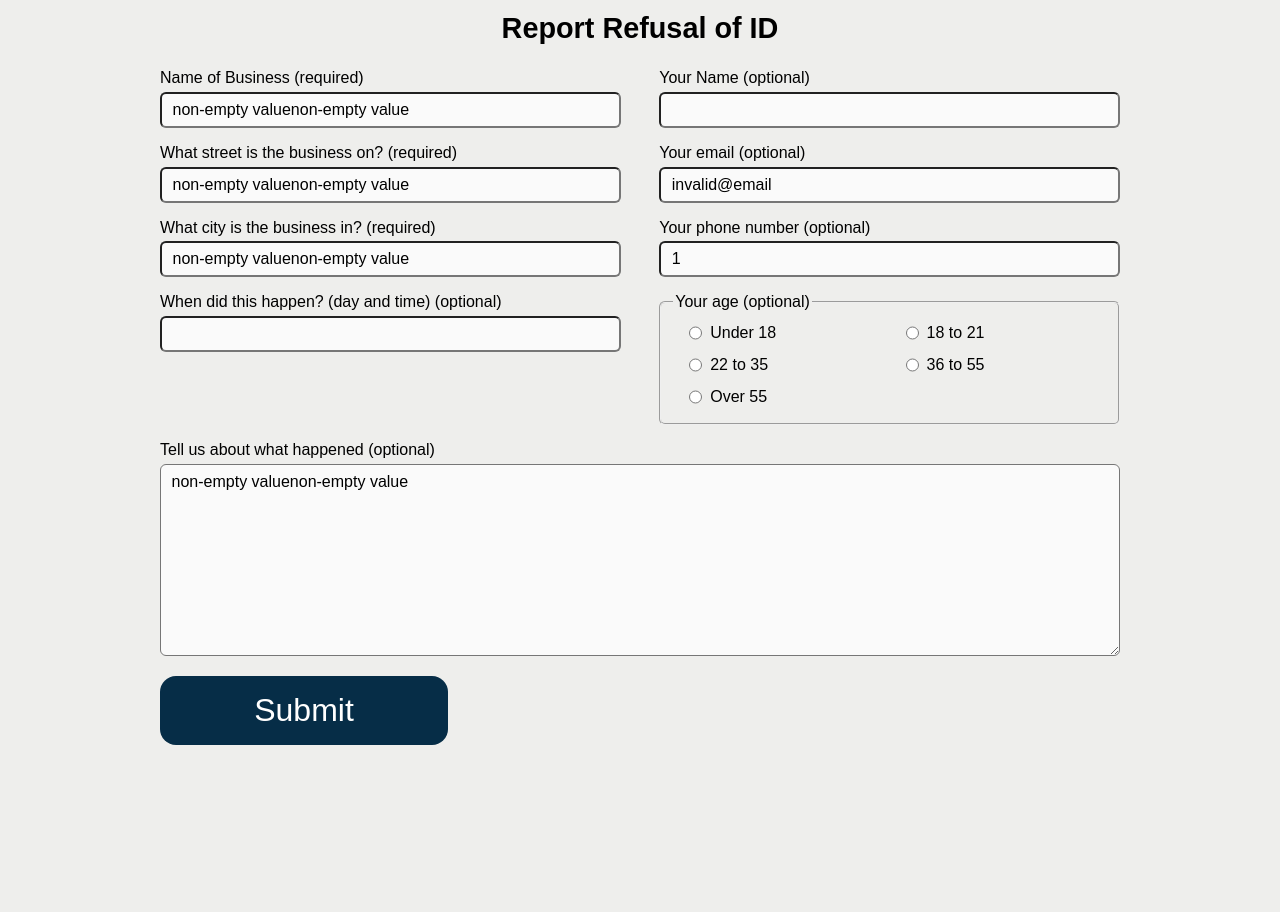
Test: when the form data is invalid › shows error message when missing required business name
Type "non-empty value" into the field labelled "Name of Business (required)". click: {"x": 390, "y": 110}
box: [160, 92, 621, 128]
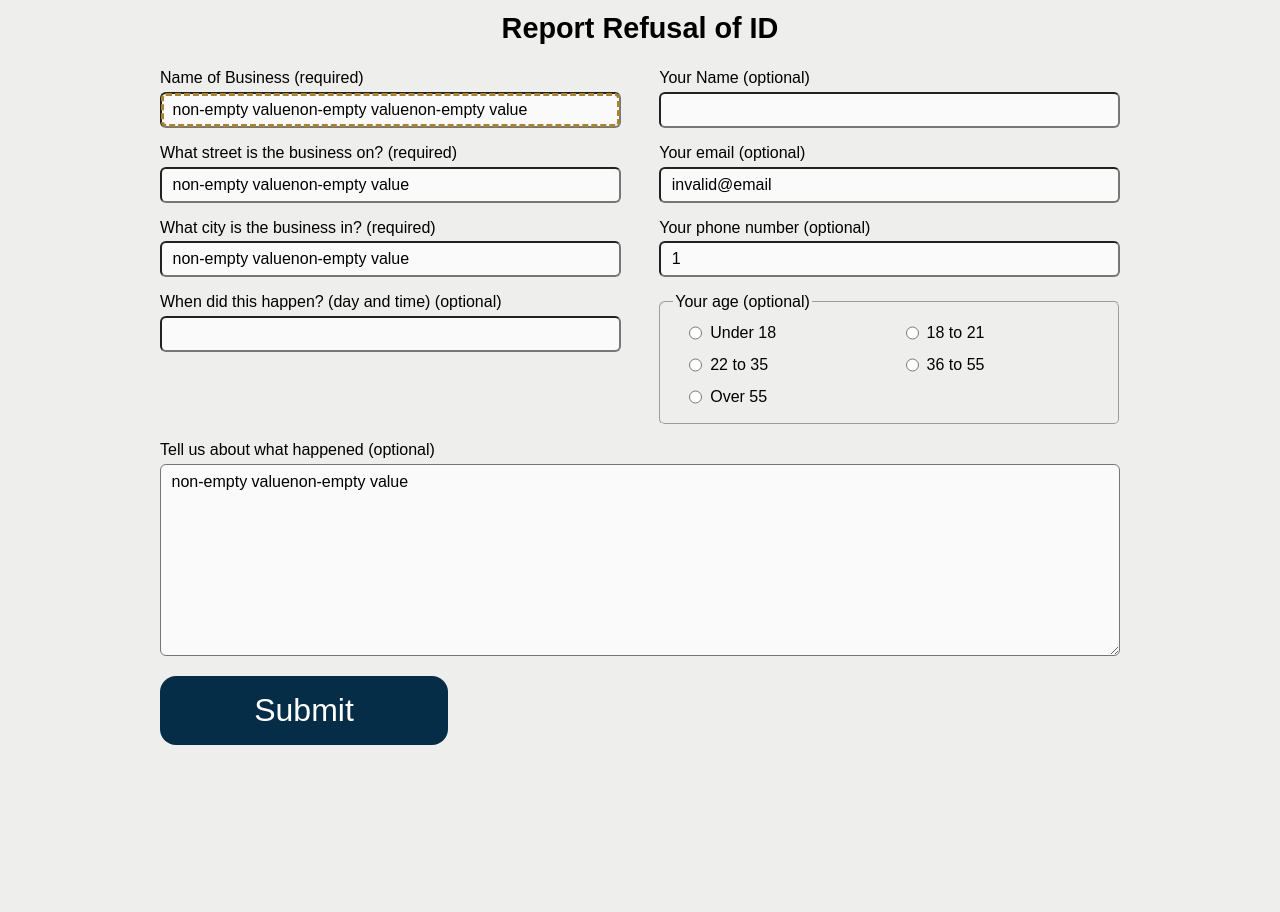
Type "non-empty value" into the field labelled "What street is the business on? (required)". click: {"x": 390, "y": 185}
box: [160, 167, 621, 203]
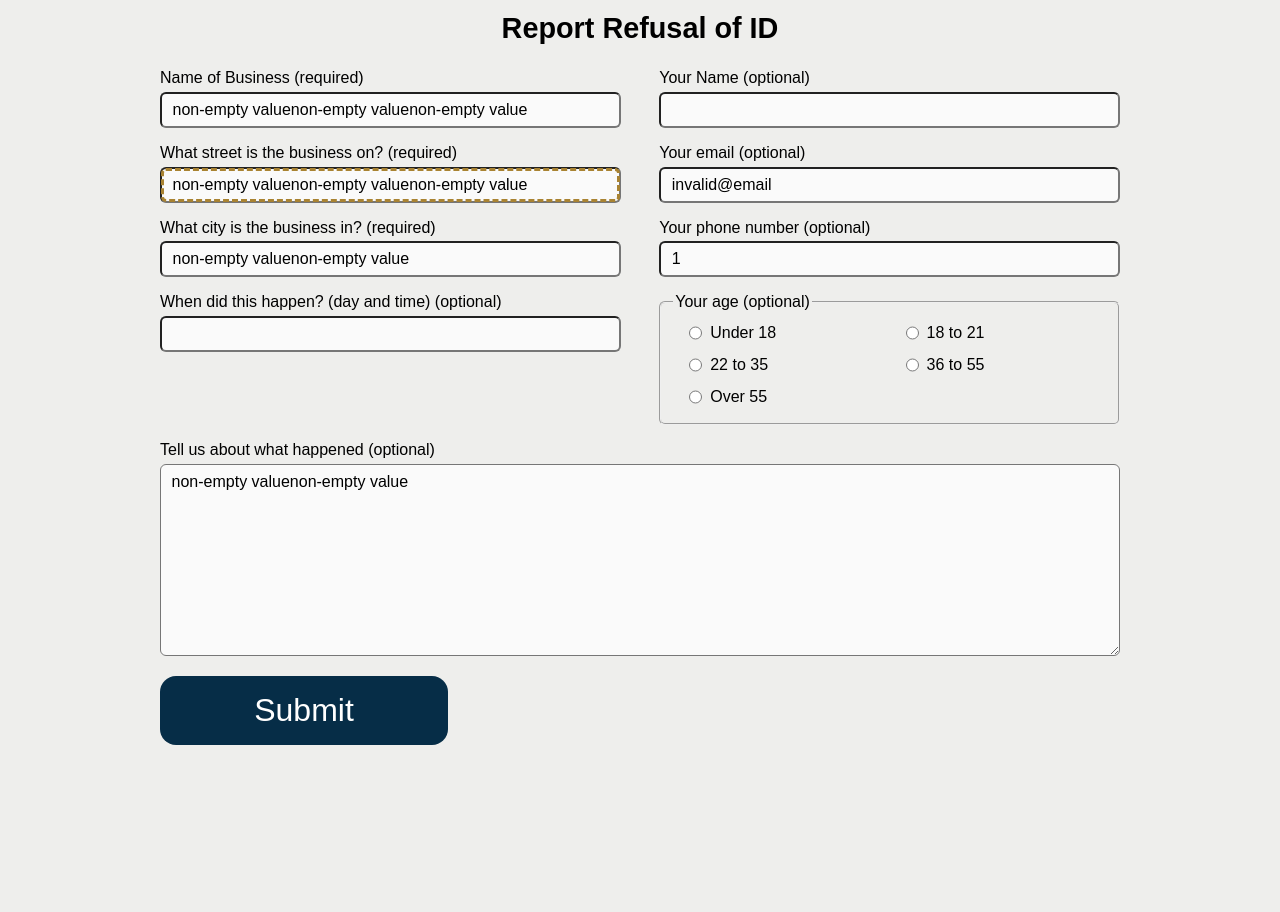
Type "non-empty value" into the field labelled "What city is the business in? (required)". click: {"x": 390, "y": 259}
box: [160, 241, 621, 277]
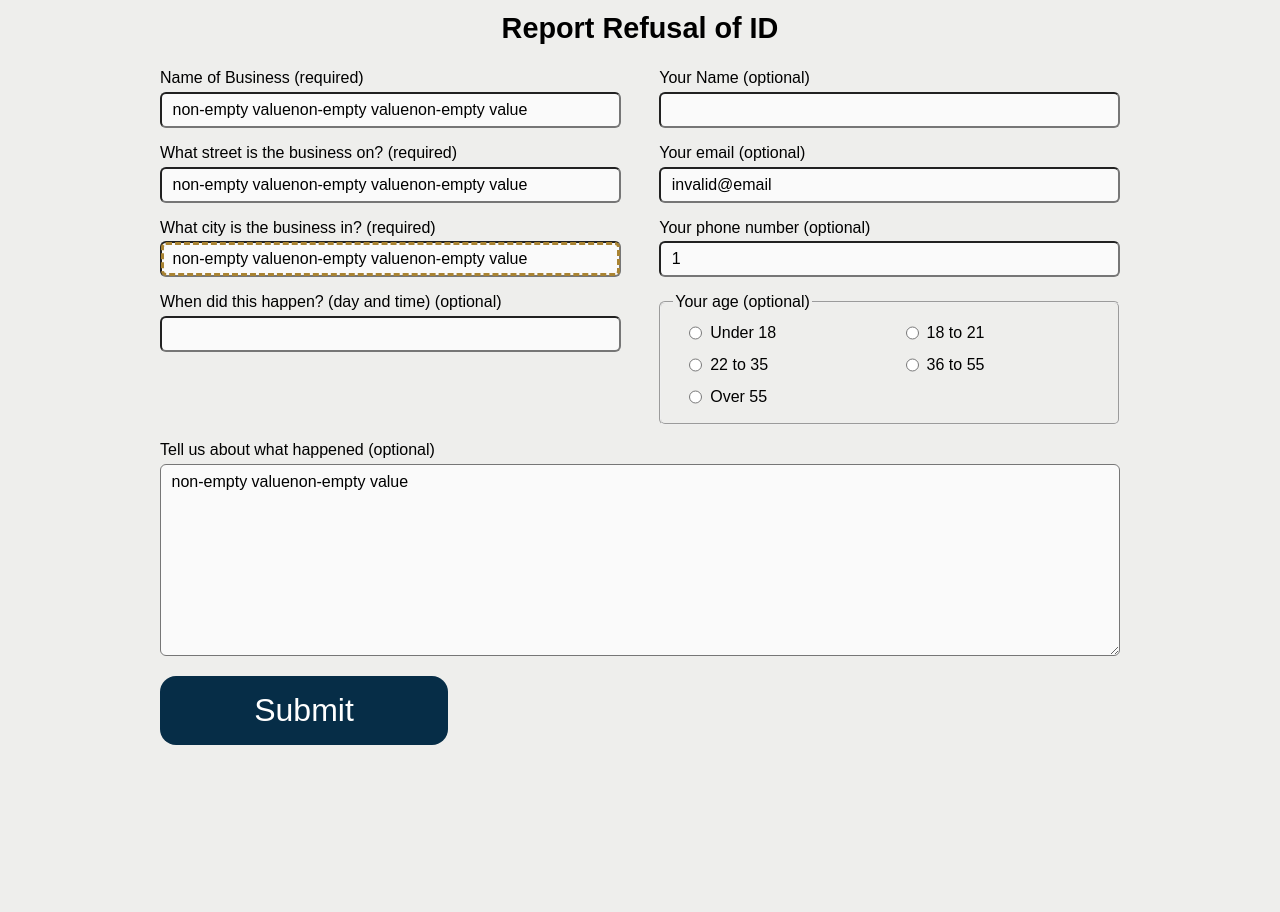
Type "non-empty value" into the text box labelled "Tell us about what happened (optional)". click: {"x": 640, "y": 560}
box: [160, 464, 1120, 656]
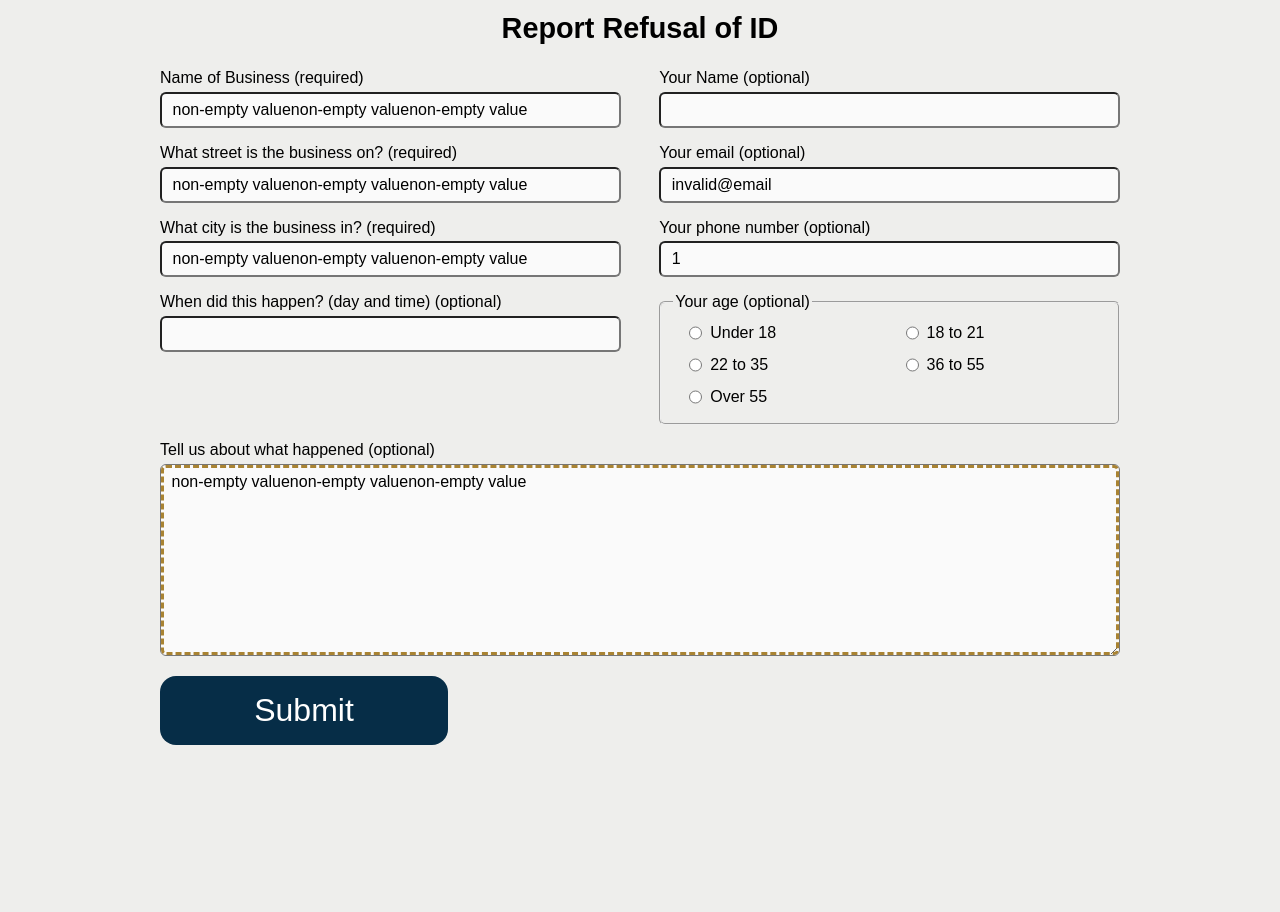
Clear the field labelled "Name of Business (required)". click: {"x": 390, "y": 110}
box: [160, 92, 621, 128]
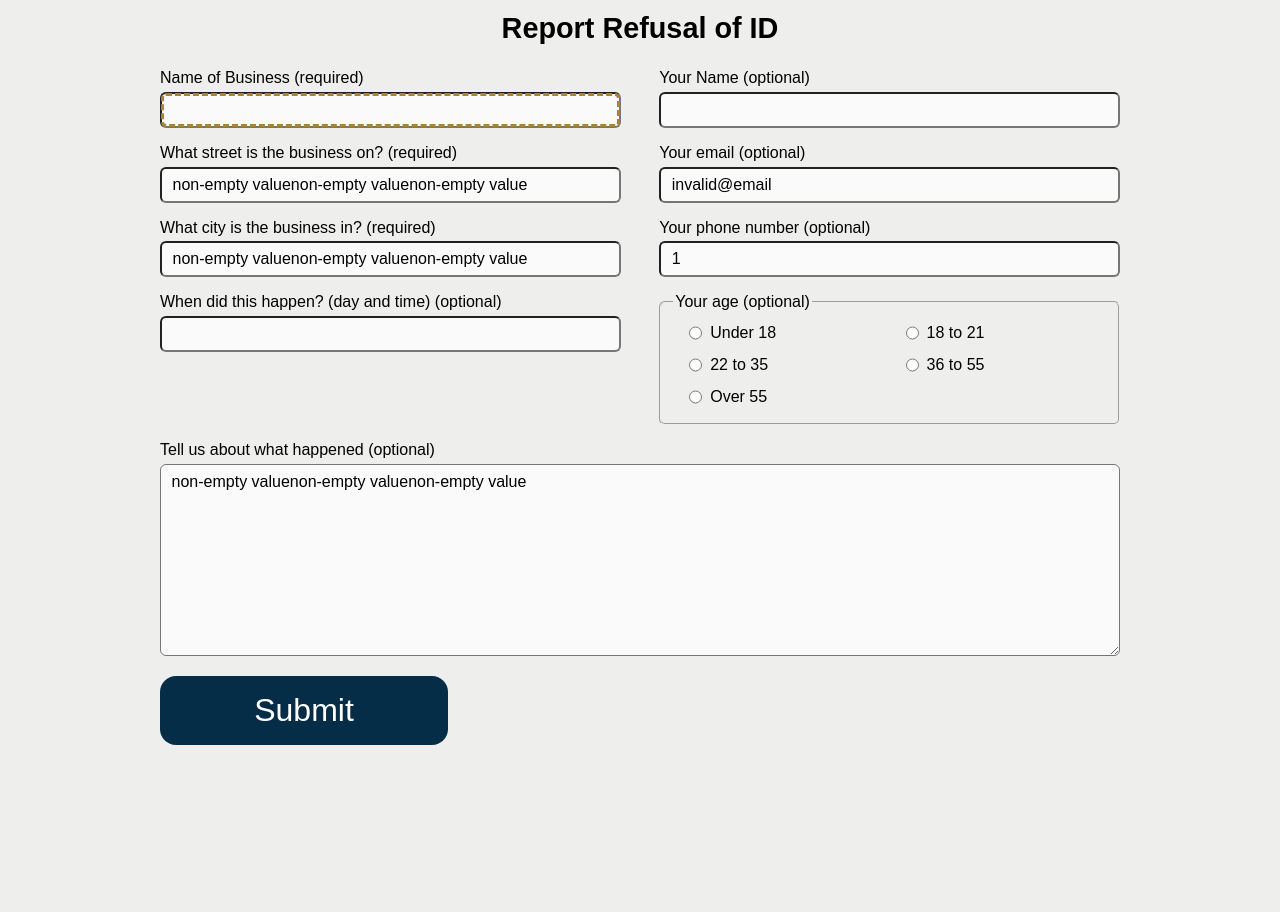
Click the button "Submit". click: {"x": 304, "y": 710}
box: [160, 676, 448, 745]
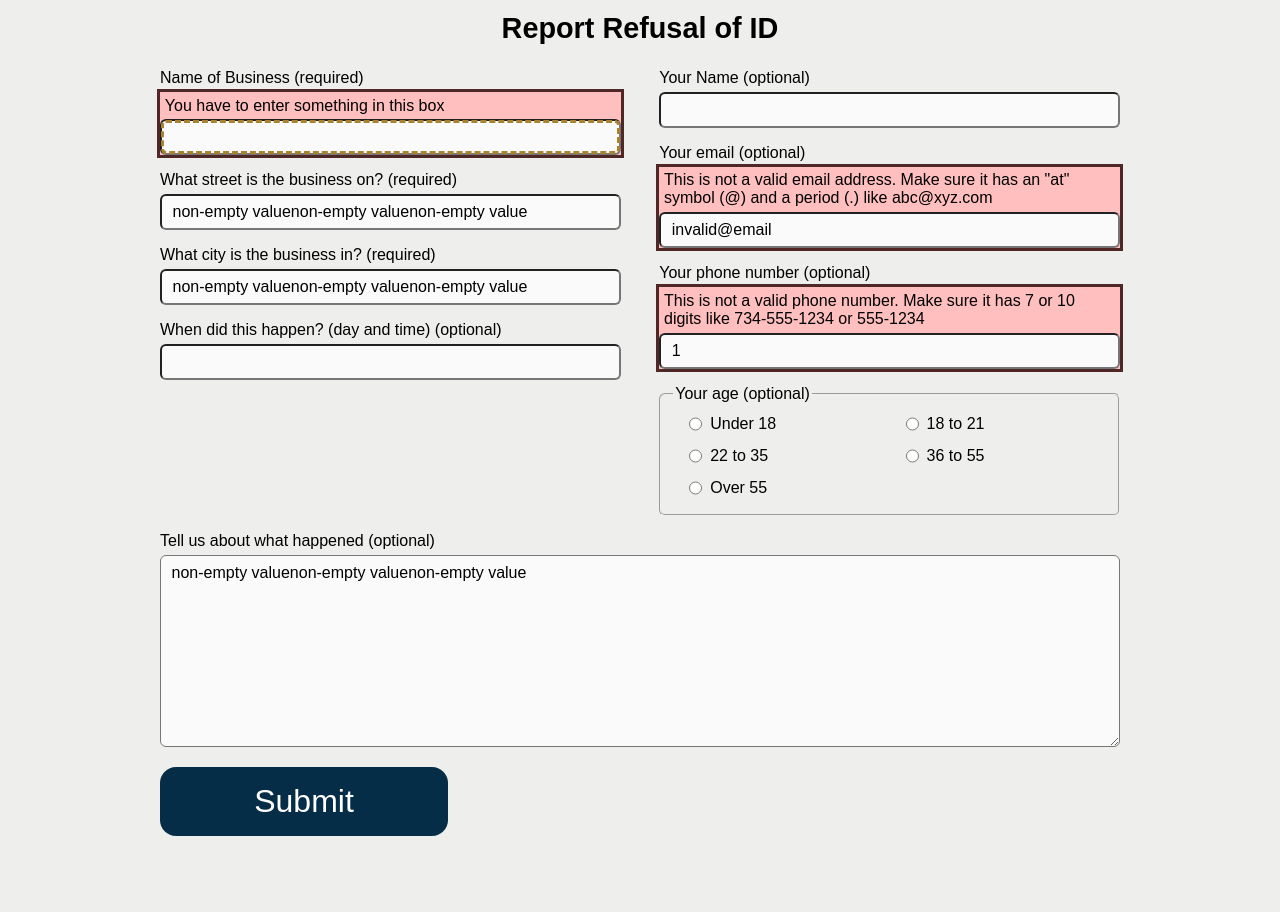
Now the text "You have to enter something in this box" is shown, box [165, 97, 444, 114]
